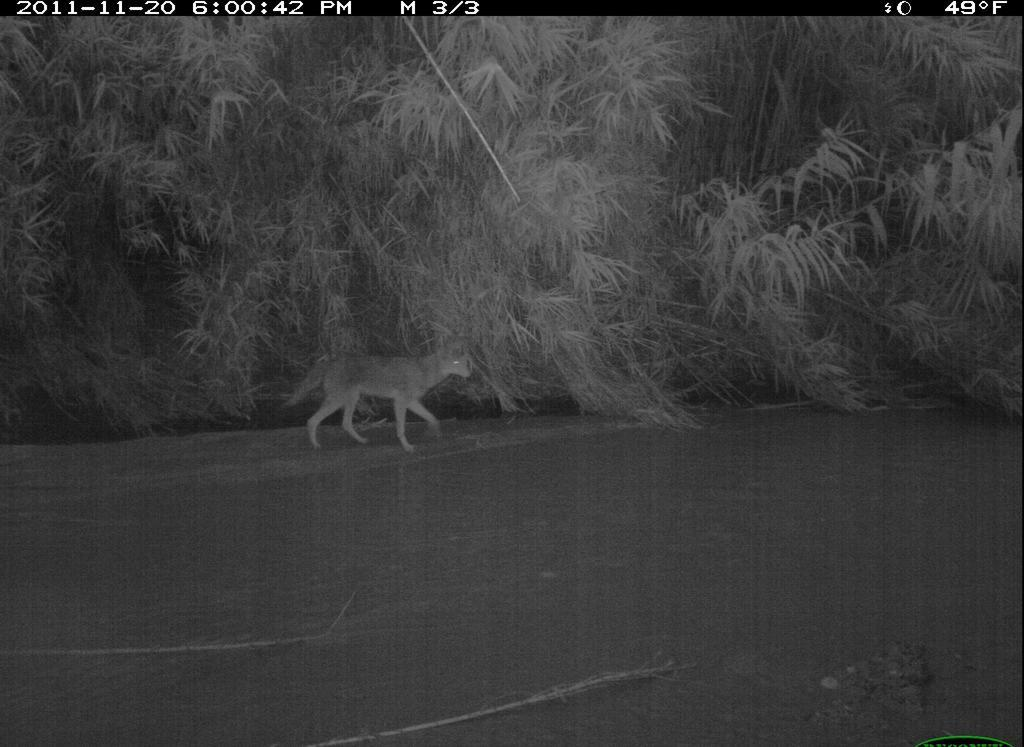coyote: (281, 341, 478, 456)
